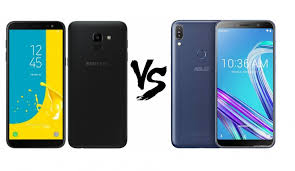asus: (210, 15, 278, 151), (168, 16, 217, 152)
